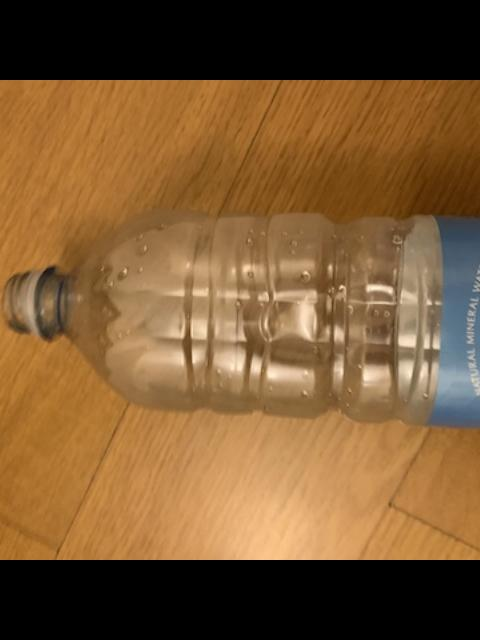plastic: (1, 215, 480, 429)
